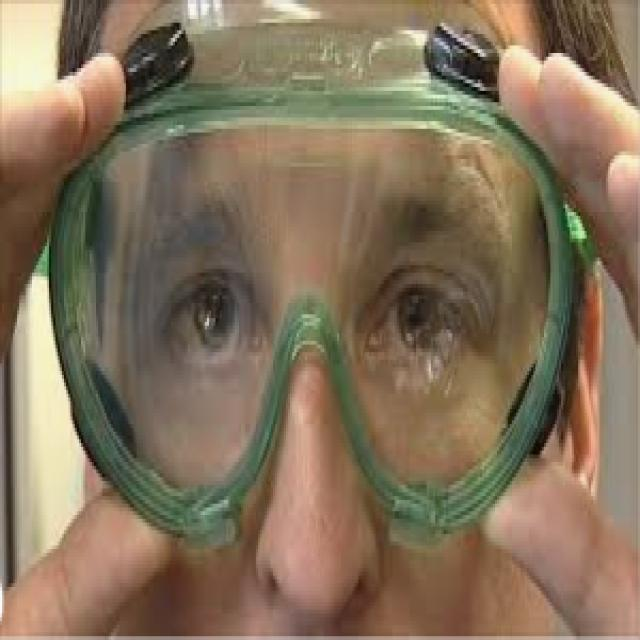glasses: (39, 68, 594, 550)
